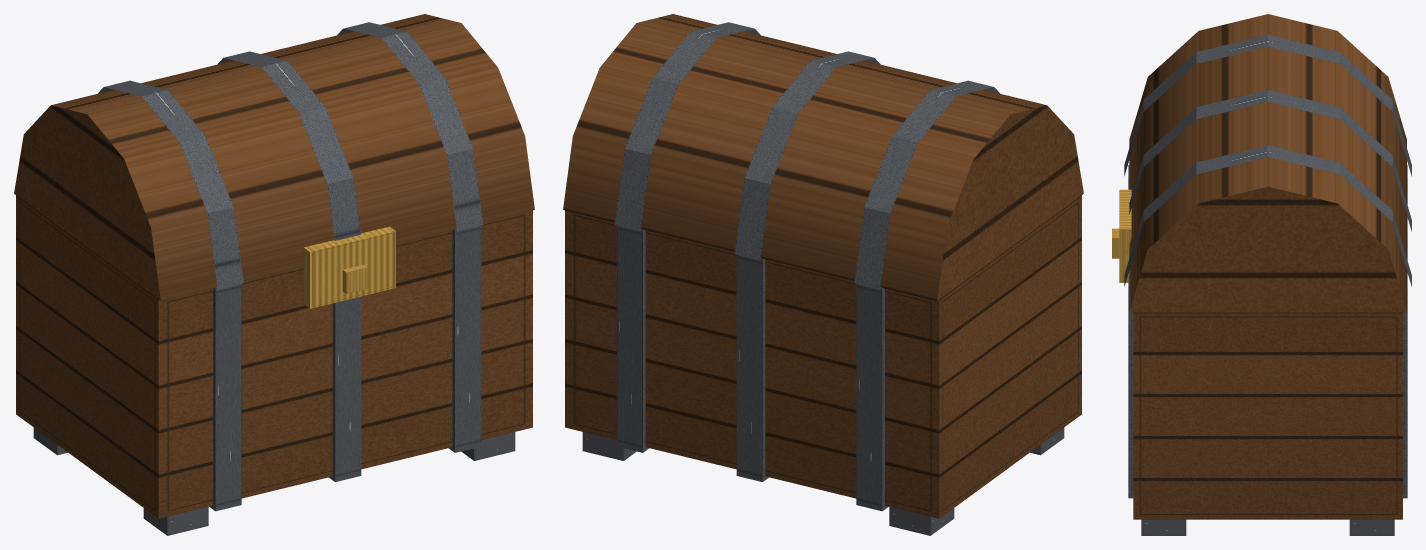
File: treasure-chest.glb
The picture shows the model from 3 angles, left to right: view 1: azimuth 30°, elevation 25°; view 2: azimuth 150°, elevation 25°; view 3: azimuth 270°, elevation 25°; orthographic projection. The views are drawn at different scales.
Visible parts, largest first — view 1: treasure_chest; view 2: treasure_chest; view 3: treasure_chest.
Boxes of the visible parts, x1,y1,x2,y2 form: treasure_chest: (14,14,534,535); treasure_chest: (563,14,1083,535); treasure_chest: (1112,14,1411,535).
Bounding box in the file's own units: 1 × 0.972 × 0.734.
3 materials, 3 textured.
